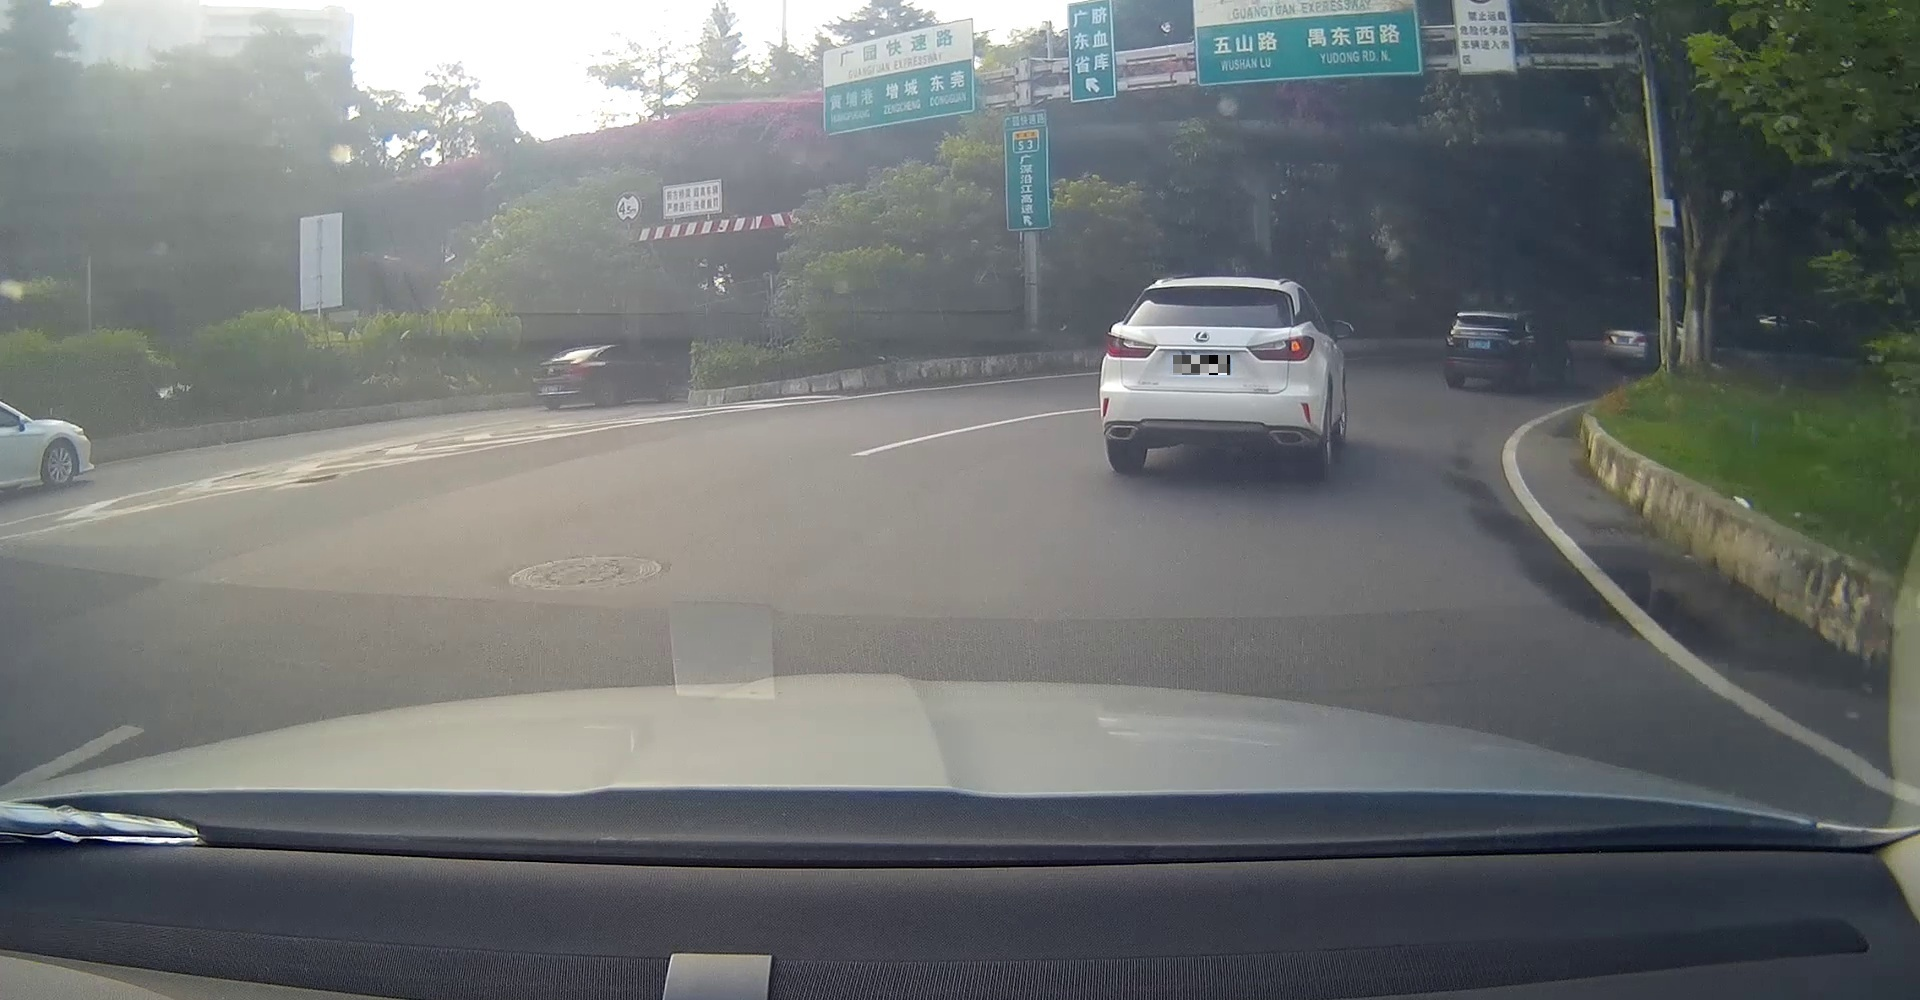L_light: (1105, 331, 1158, 359)
R_light: (1247, 335, 1317, 360)
T_light: (1195, 286, 1236, 291)
night-right: (1098, 280, 1326, 472)
plate_1: (1173, 355, 1230, 376)
